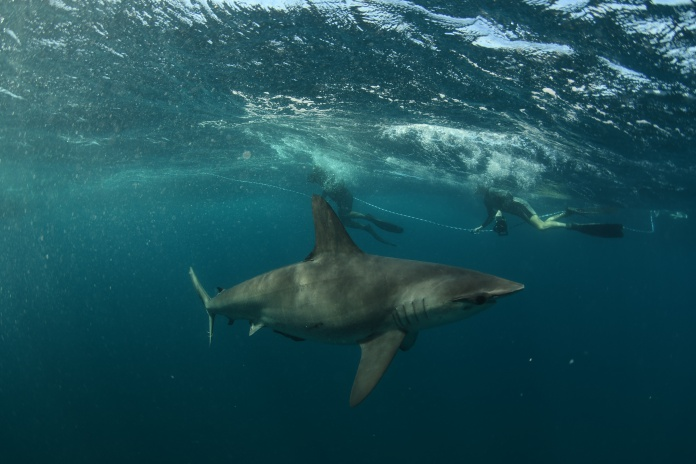Hammer: (170, 179, 544, 414)
